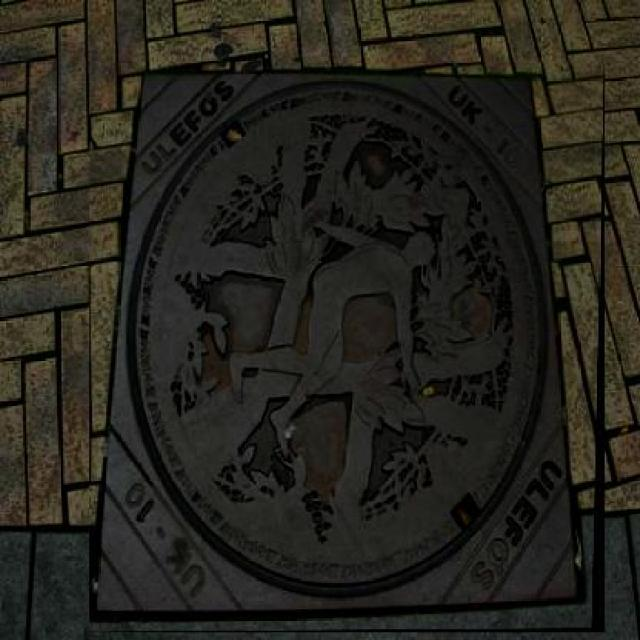Manhole: (89, 63, 605, 632)
